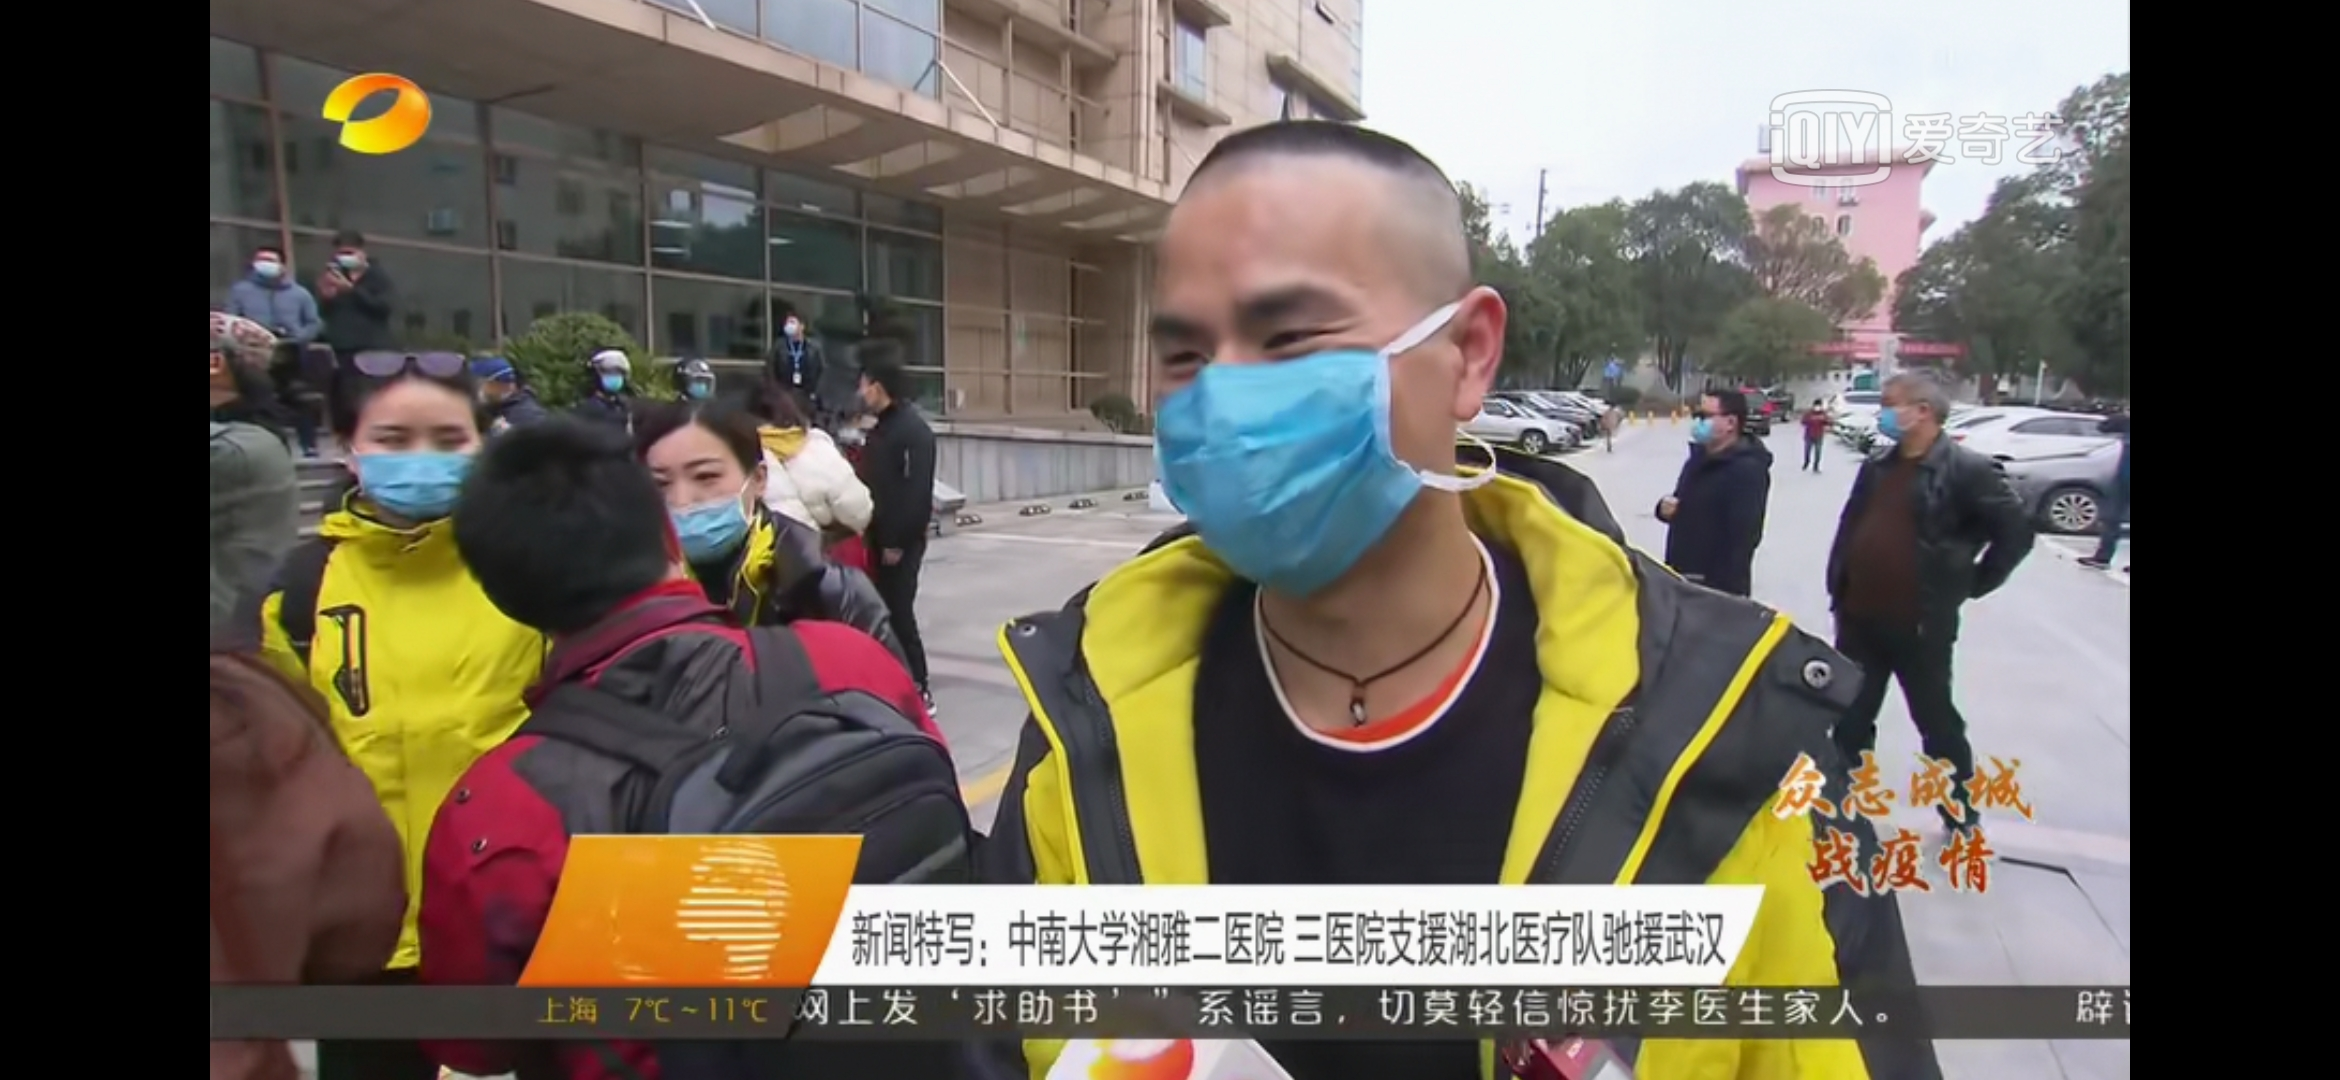correctlyWear: (1143, 277, 1503, 601), (342, 383, 479, 527), (1877, 394, 1930, 448), (1688, 401, 1737, 449), (858, 370, 886, 410), (334, 246, 369, 274), (595, 367, 630, 394), (251, 251, 281, 277), (783, 316, 804, 339)
incorrectlyWear: (652, 433, 770, 565)
